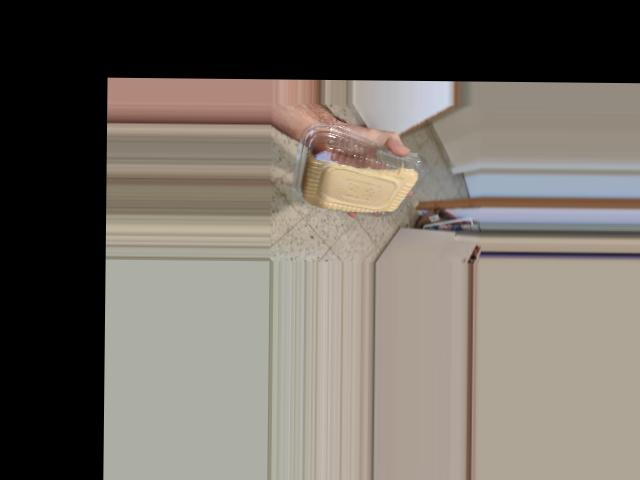cheese: (286, 148, 393, 202)
